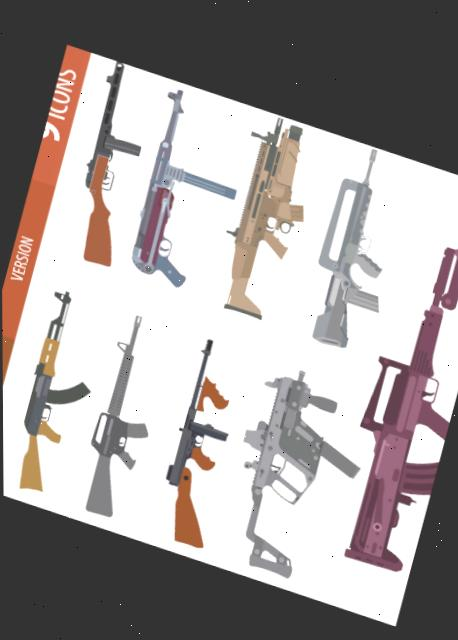rifle: (325, 221, 458, 578), (209, 341, 385, 596), (288, 129, 428, 364), (121, 75, 260, 299), (142, 317, 268, 558), (2, 274, 120, 508), (215, 104, 331, 326), (72, 300, 181, 527), (58, 55, 163, 274), (434, 170, 458, 311)
